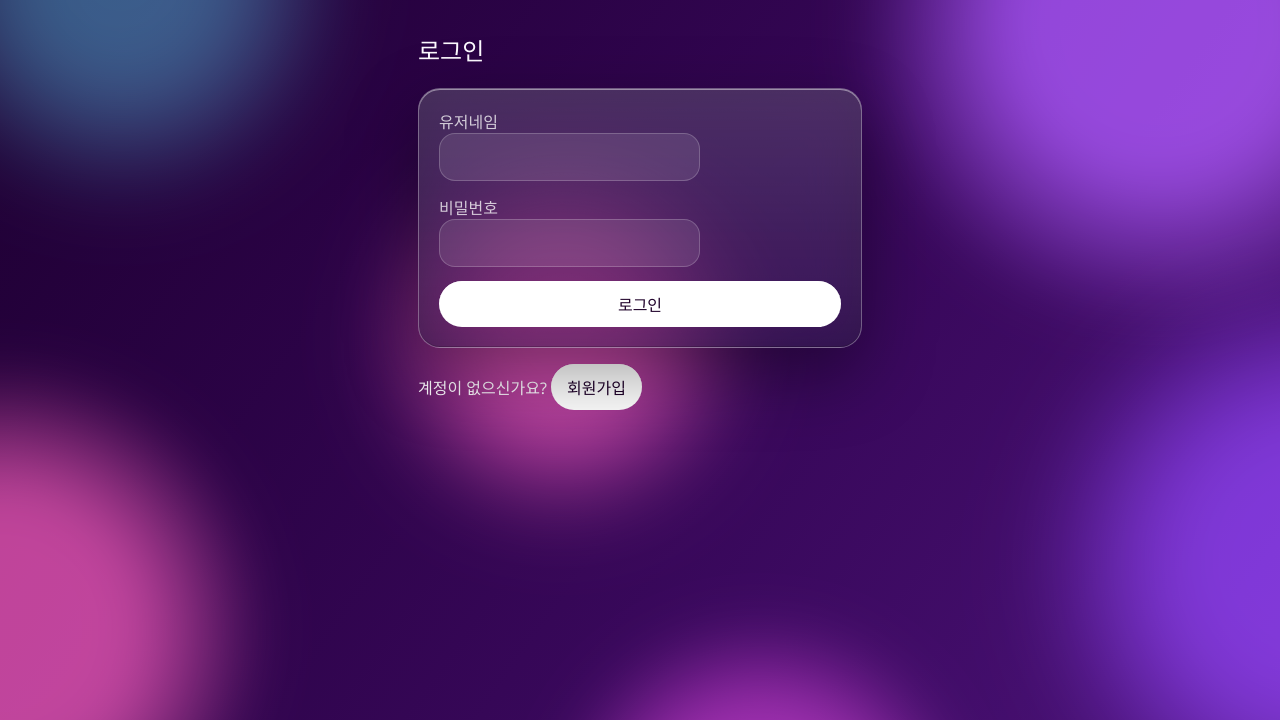
Test case: LoginPage — validation and submit › invalid credentials: 401 maps to a friendly message
Type "dohyun" into the field labelled "유저네임".
click(570, 157); type("dohyun")  # box [439, 133, 700, 181]
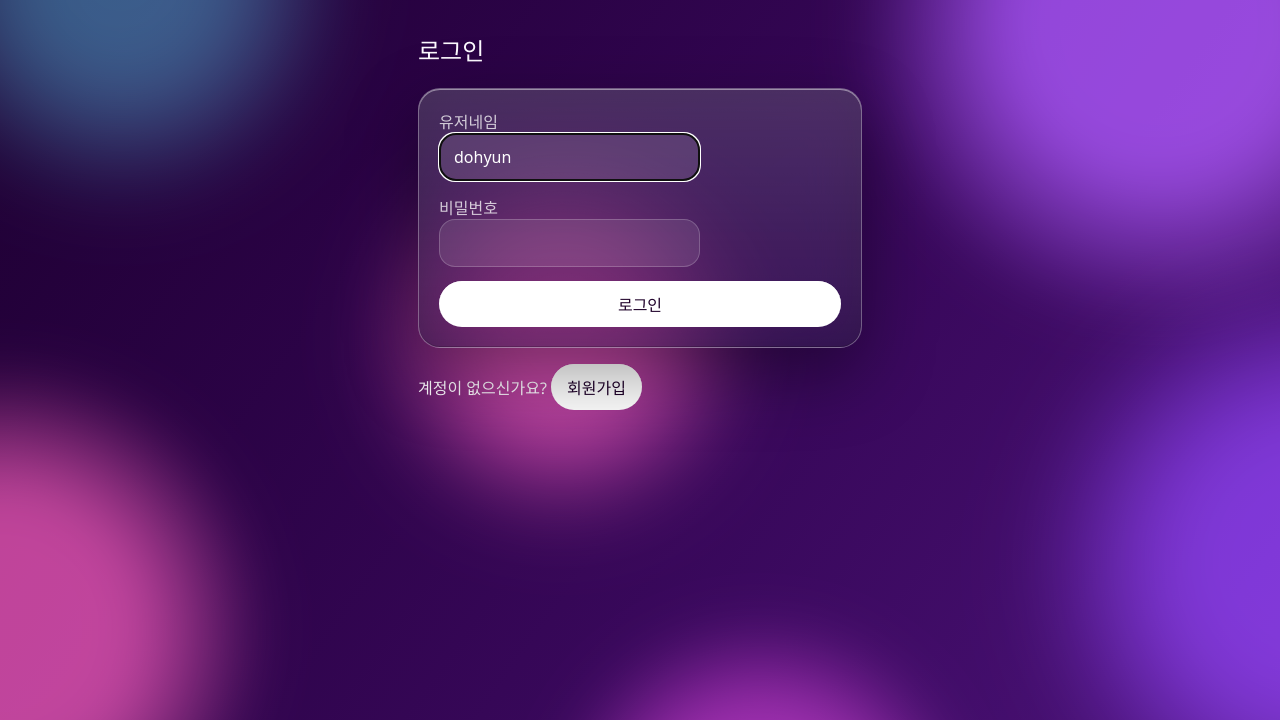
Type "password123" into the password field labelled "비밀번호".
click(570, 243); type("password123")  # box [439, 219, 700, 267]
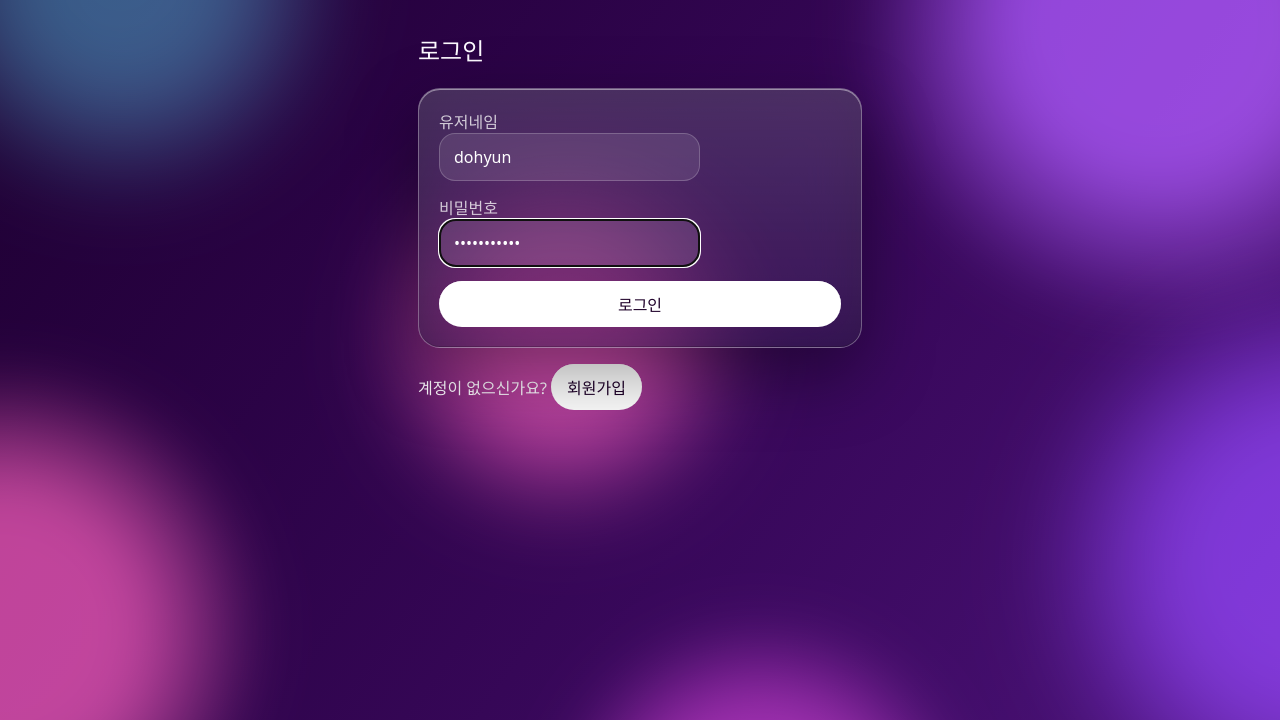
Click the button "로그인".
click(640, 304)  # box [439, 281, 841, 327]
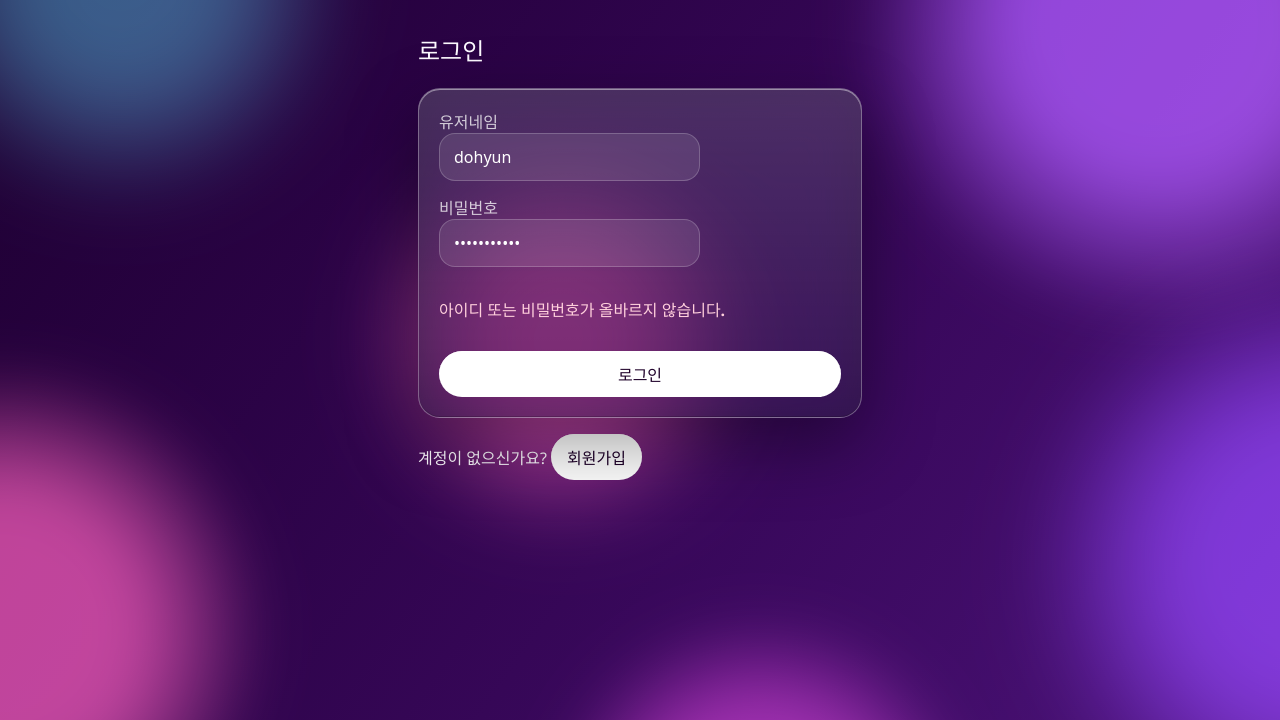
Now the text "아이디 또는 비밀번호가 올바르지 않습니다." is shown, box [439, 299, 725, 321]
